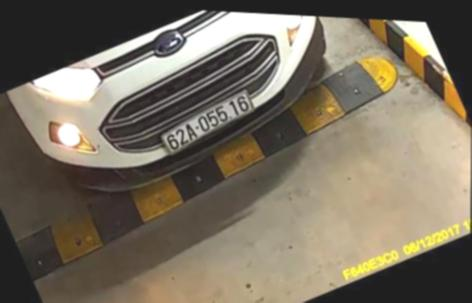License_Plate: (149, 84, 264, 168)
